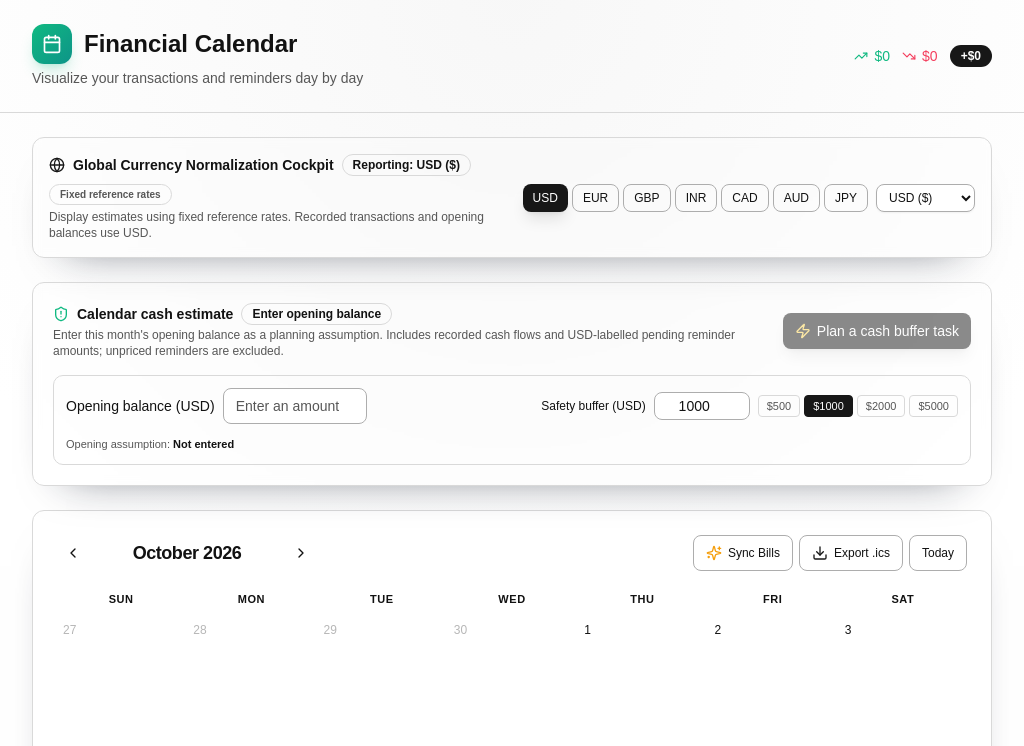
it: FinancialCalendar Page › navigates next month, previous month, and restores today
The image size is (1024, 746).
// Click Next month
Step 1. Click the button named "Next month" → point(301, 553), box left=285, top=537, right=317, bottom=569
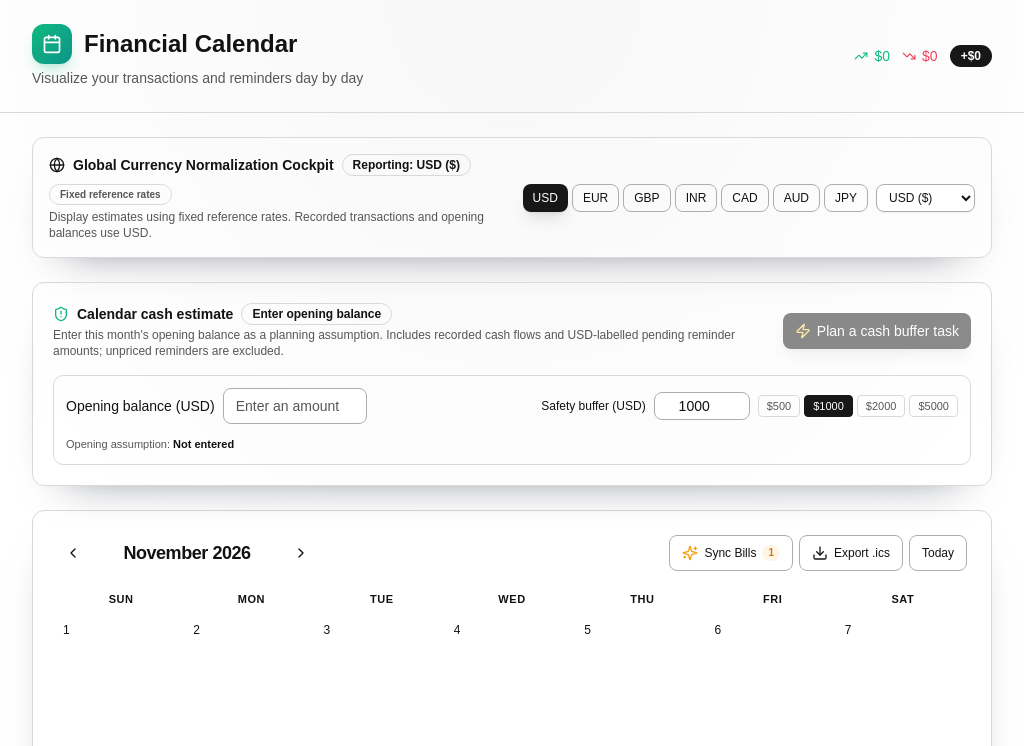
Expected: the text with test id "calendar-month-heading" no longer shows "October 2026"
// Click Previous month
Step 2. Click the button named "Previous month" → point(73, 553), box left=57, top=537, right=89, bottom=569
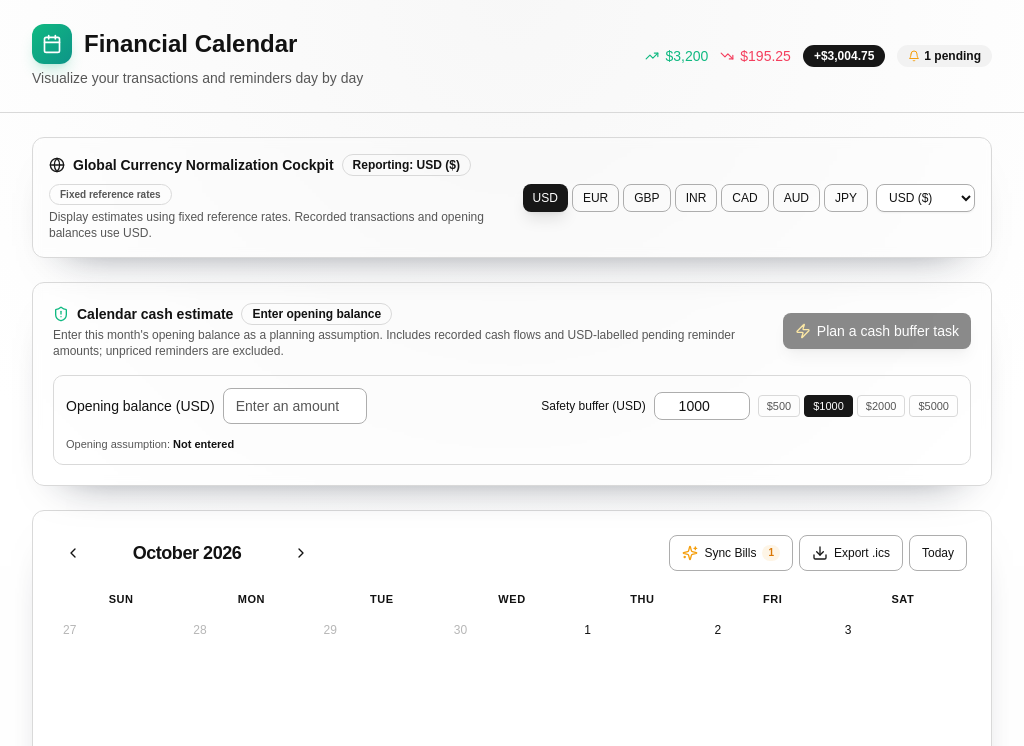
Expected: the text with test id "calendar-month-heading" reads "October 2026", left=133, top=543, right=241, bottom=563
